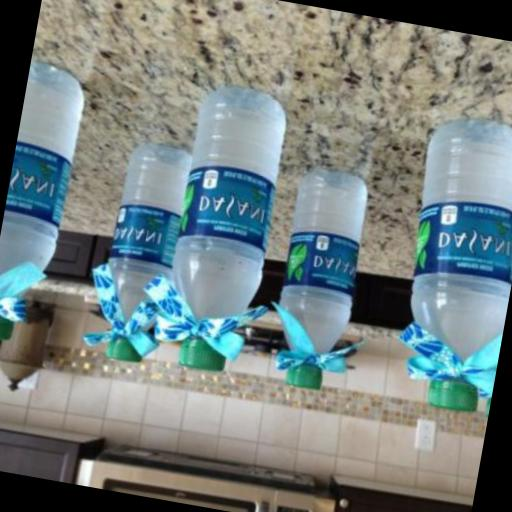Coca: (147, 82, 291, 376), (383, 110, 512, 415), (256, 162, 376, 396), (0, 51, 89, 357), (88, 132, 194, 366)
